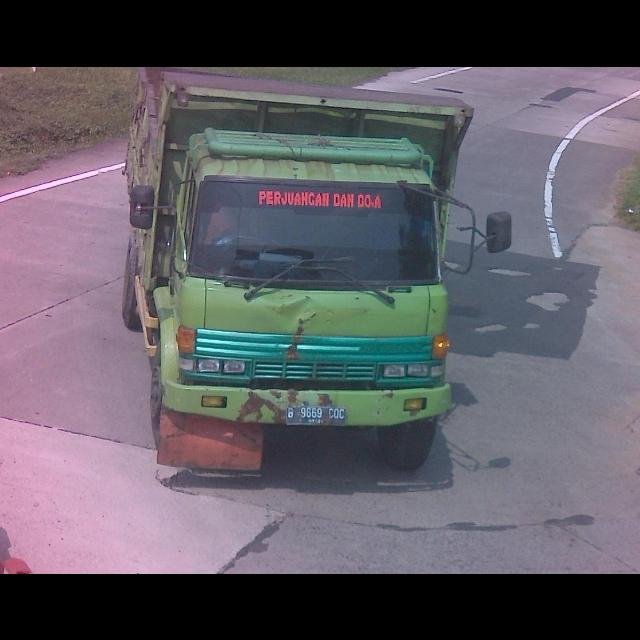plate: (284, 402, 350, 428)
